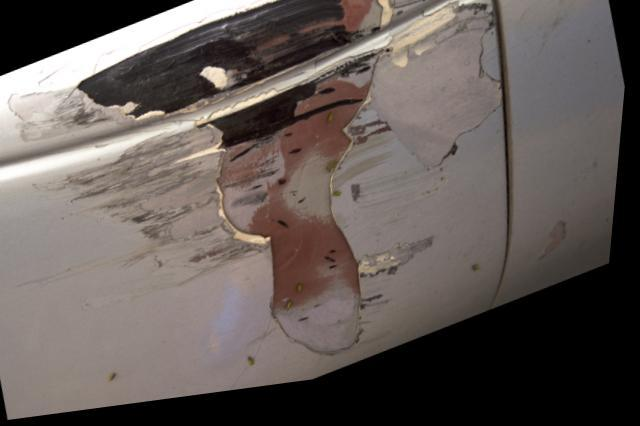scratch: (0, 0, 505, 385)
